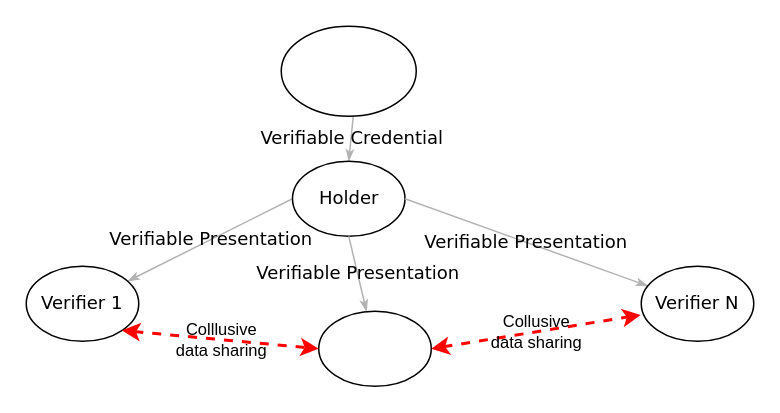
Some shapes in this 780 by 413 pixel diagram are drawn without their labels. The centre of each missing label's shape, as x and y in pixels:
"Issuer" goes at (x=348, y=70).
"Verifier 2" goes at (x=374, y=348).
